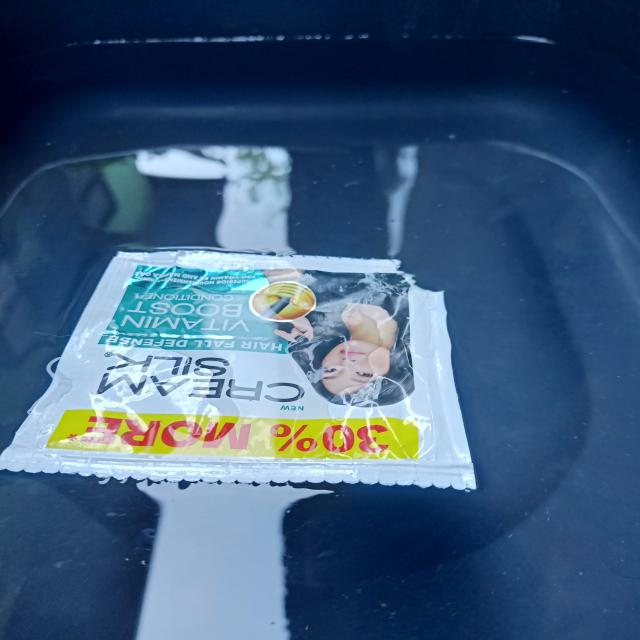Plastic Wrapper: (0, 247, 507, 492)
